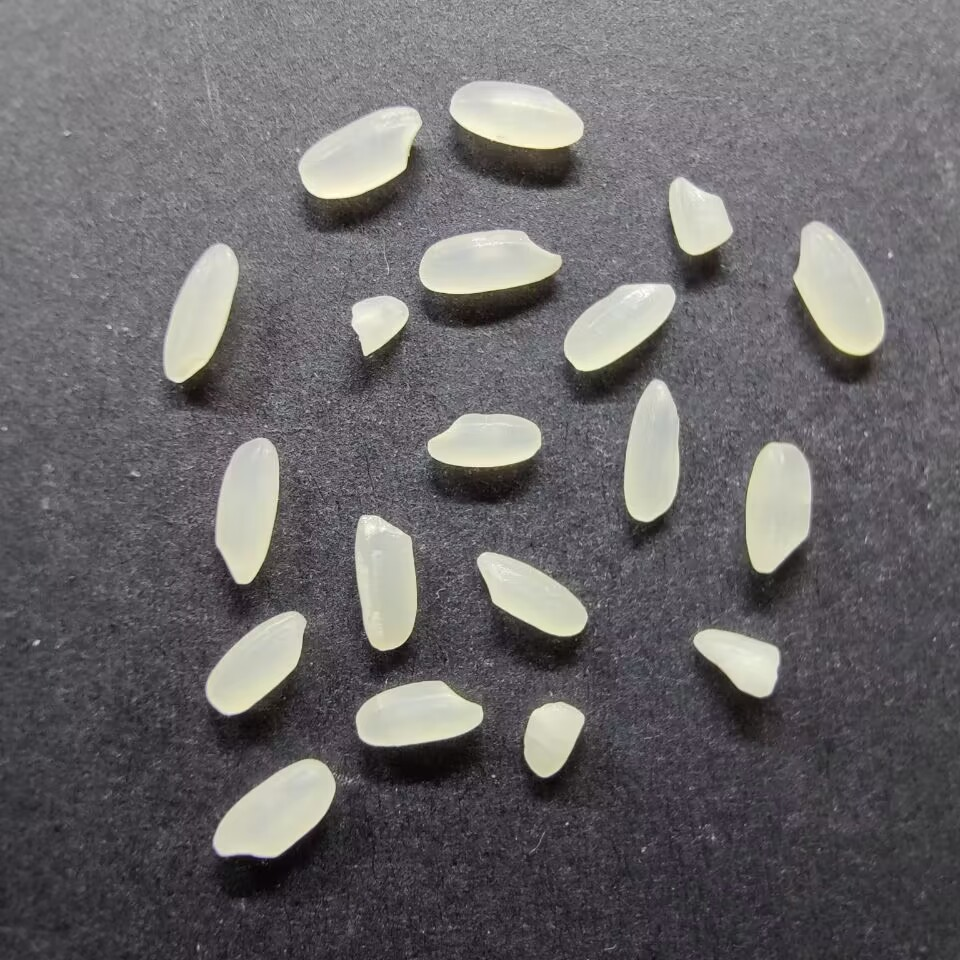broken: (690, 628, 784, 699), (666, 174, 734, 257), (522, 700, 588, 782), (347, 294, 410, 357)
rice: (791, 218, 886, 358), (210, 757, 335, 859), (296, 103, 423, 199), (159, 240, 240, 385), (203, 609, 309, 718), (562, 280, 678, 373), (213, 436, 282, 588), (476, 549, 589, 639), (447, 78, 586, 150), (417, 227, 562, 295), (744, 439, 813, 575), (620, 377, 684, 523), (353, 679, 485, 747), (353, 513, 415, 652), (426, 411, 544, 469)
